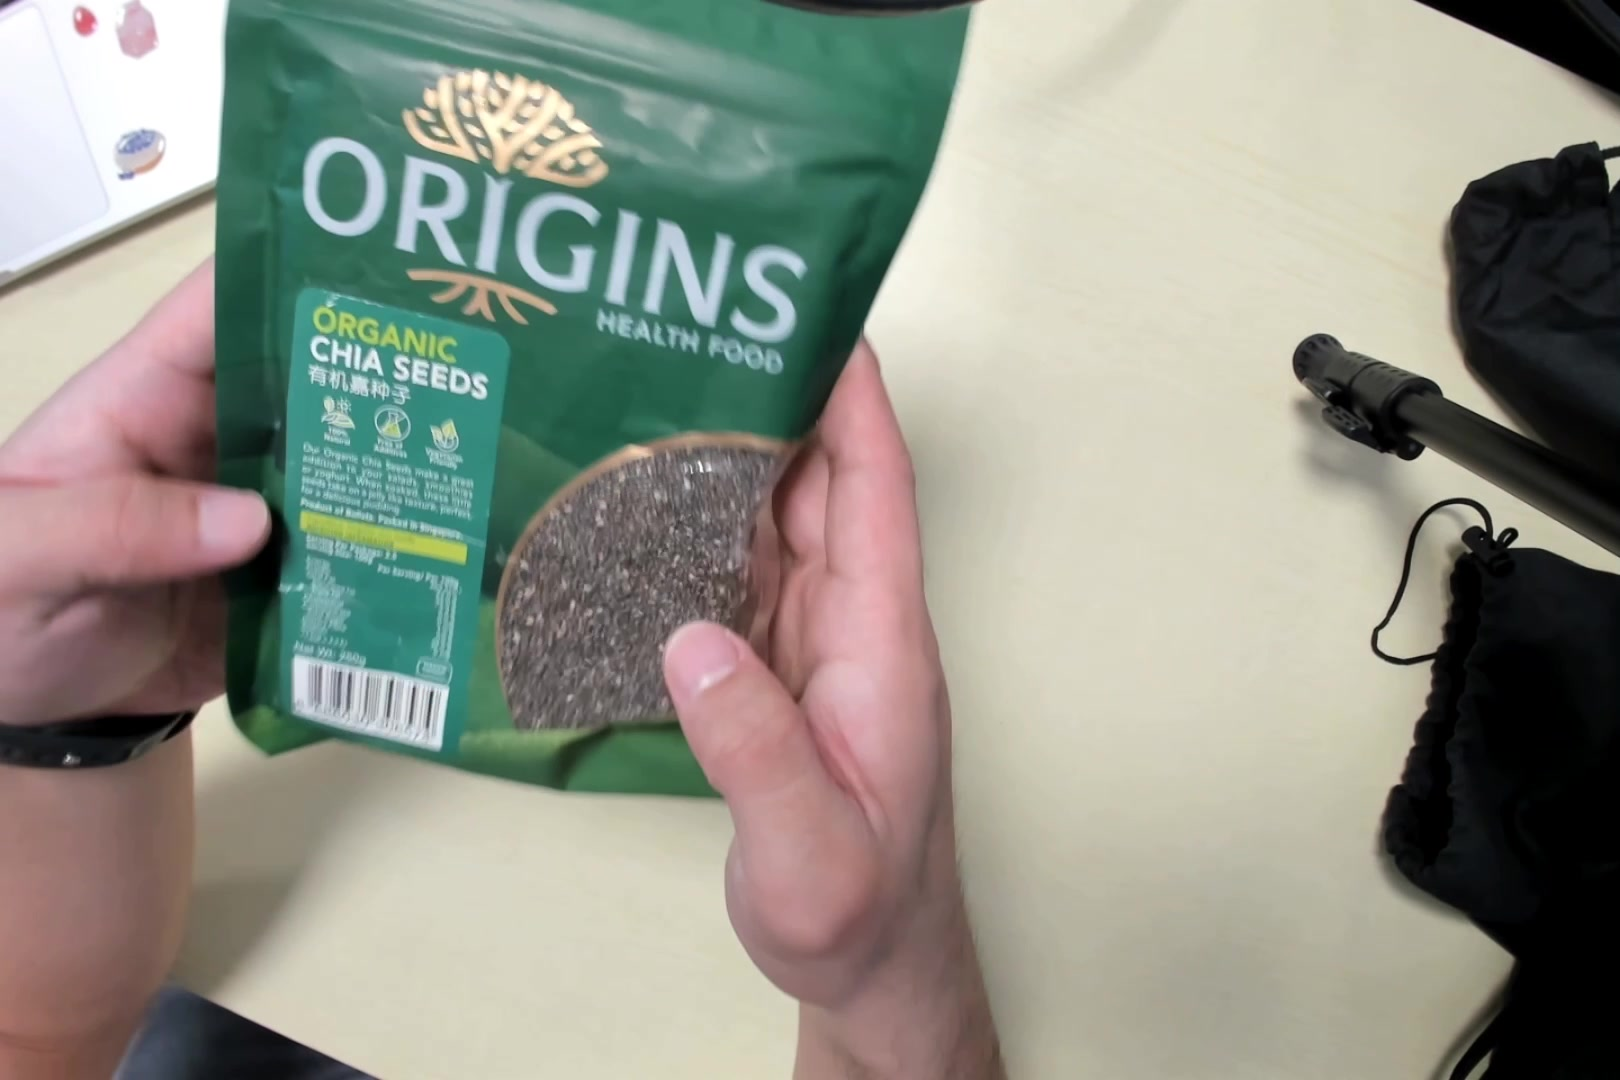OtherDriedFood_200-299g_NonHalal_NonHealthy: (215, 1, 938, 814)
